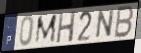0: (18, 14, 35, 48)
2: (76, 10, 94, 43)
B: (113, 5, 136, 40)
H: (55, 10, 77, 45)
M: (34, 12, 58, 46)
N: (94, 8, 116, 40)
